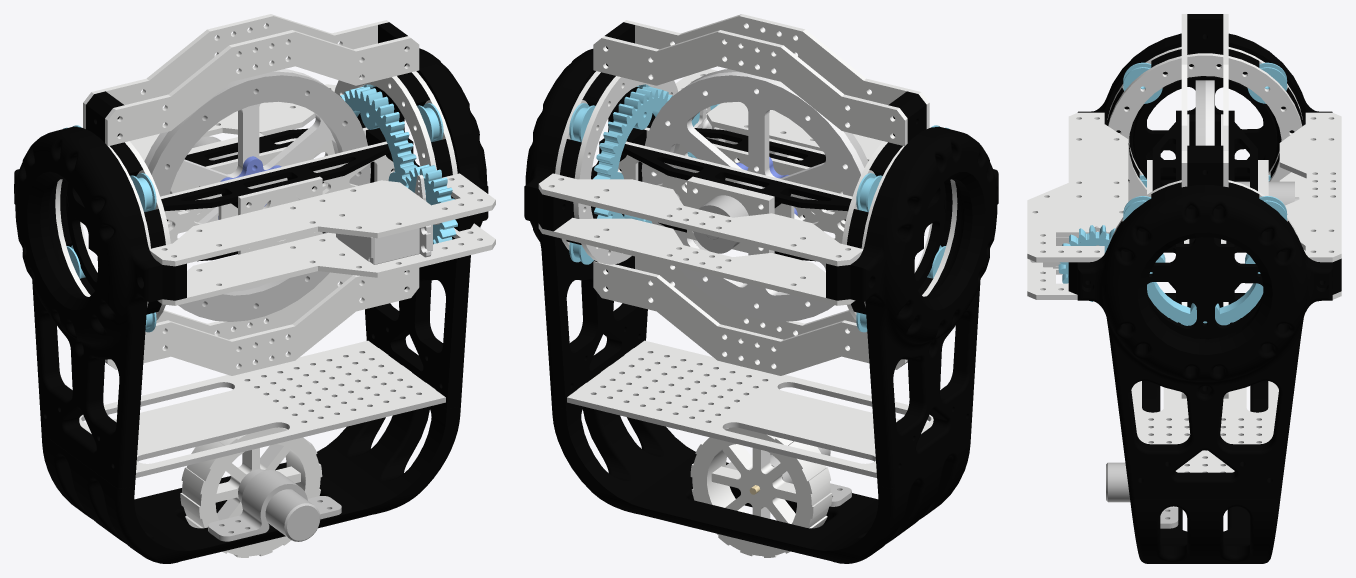
The model's file is unicycle.glb.
3 renders of one model, left to right at view 1: azimuth 30°, elevation 25°; view 2: azimuth 150°, elevation 25°; view 3: azimuth 270°, elevation 25°, orthographic. The views are drawn at different scales.
Visible parts, largest first — view 1: Final Assembly; view 2: Final Assembly; view 3: Final Assembly.
Boxes of the visible parts, x1,y1,x2,y2 form: Final Assembly: (14, 14, 495, 563); Final Assembly: (524, 14, 998, 563); Final Assembly: (1027, 14, 1341, 563).
Bounding box in the file's own units: 23 × 30.22 × 17.45.
